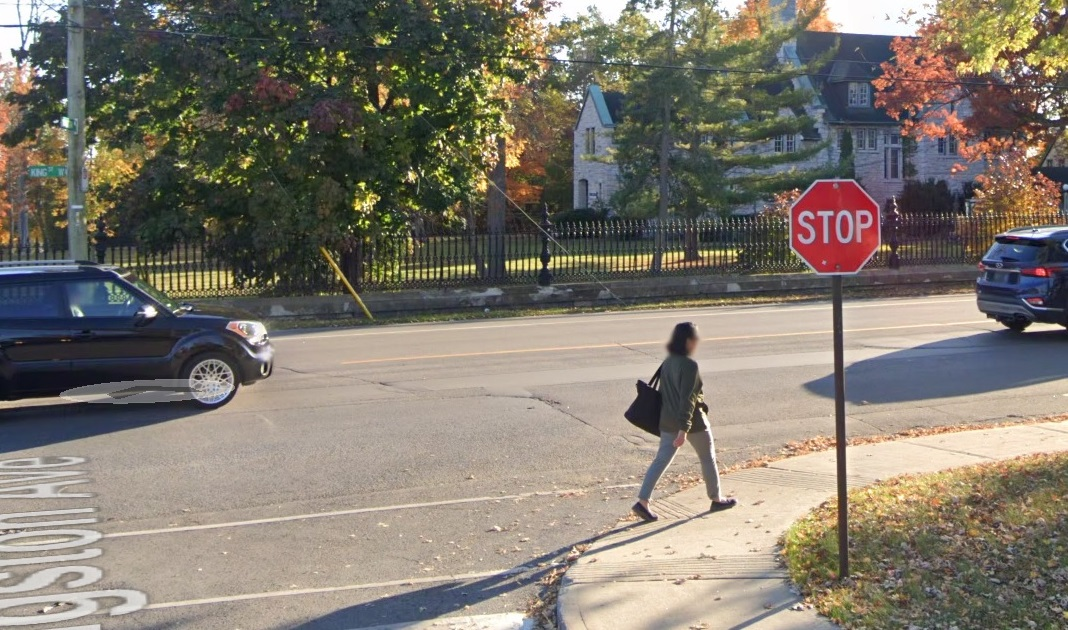sign_stop: (787, 179, 881, 276)
